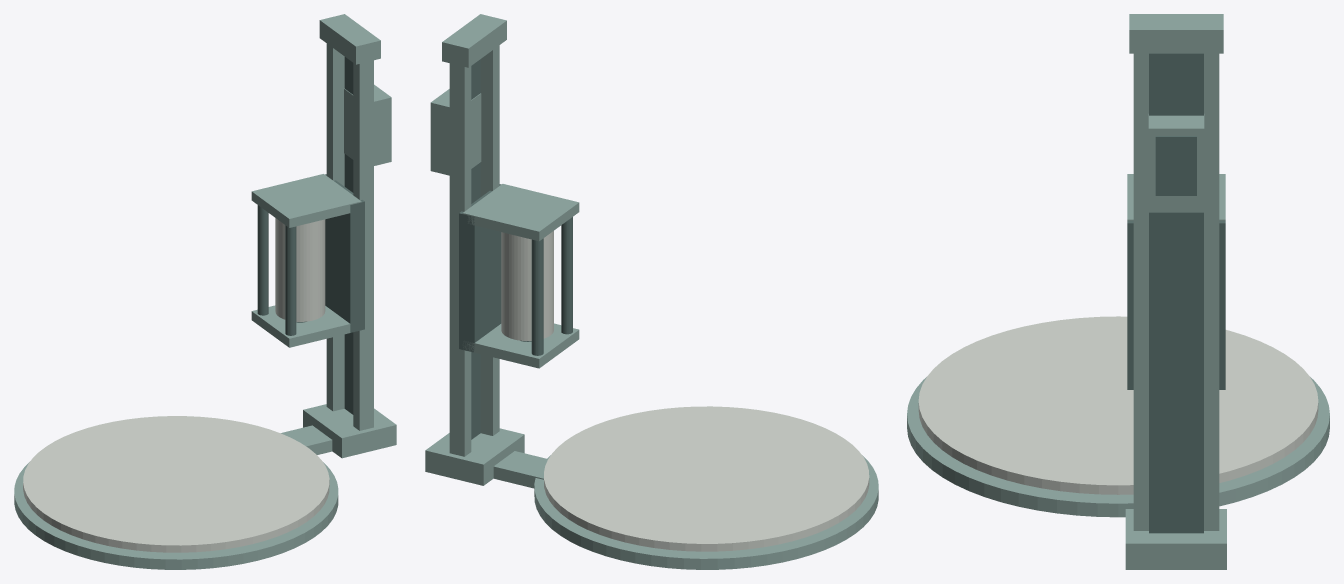
3 renders of one model, left to right at view 1: azimuth 30°, elevation 25°; view 2: azimuth 150°, elevation 25°; view 3: azimuth 270°, elevation 25°, orthographic. The views are drawn at different scales.
Parts seen in each view (by area): view 1: WholeEmptyRoundTurntableDeck, WholeLowCircularPlatformBase, WholeTallMastGuide_0, WholeFixedCarriageBack, WholeOpaqueAnnularFilmRoll, WholeTallMastGuide_1, WholeCarriageArm_Upper, WholeMastGroundPlinth, WholeCarriageArm_Lower, WholeMastUpperCrosshead, WholeMastControlHousing, WholeMastRearCover (+3 smaller); view 2: WholeEmptyRoundTurntableDeck, WholeLowCircularPlatformBase, WholeTallMastGuide_1, WholeFixedCarriageBack, WholeOpaqueAnnularFilmRoll, WholeTallMastGuide_0, WholeCarriageArm_Upper, WholeMastGroundPlinth, WholeCarriageArm_Lower, WholeMastControlHousing, WholeMastUpperCrosshead, WholeMastRearCover (+3 smaller); view 3: WholeEmptyRoundTurntableDeck, WholeMastRearCover, WholeLowCircularPlatformBase, WholeTallMastGuide_0, WholeTallMastGuide_1, WholeMastGroundPlinth, WholeMastUpperCrosshead, WholeMastControlHousing, WholeBlankOpaqueControlPanel, WholeFixedCarriageBack, WholeCarriageArm_Upper.
Boxes of the visible parts, box(x1,y1,x2,y2) form: WholeEmptyRoundTurntableDeck: box(23, 416, 329, 552); WholeLowCircularPlatformBase: box(14, 462, 338, 569); WholeTallMastGuide_0: box(353, 60, 373, 430); WholeFixedCarriageBack: box(325, 174, 364, 332); WholeOpaqueAnnularFilmRoll: box(275, 218, 325, 321); WholeTallMastGuide_1: box(326, 43, 344, 411); WholeCarriageArm_Upper: box(251, 174, 361, 227); WholeMastGroundPlinth: box(303, 404, 396, 458); WholeCarriageArm_Lower: box(251, 305, 350, 347); WholeMastUpperCrosshead: box(319, 14, 380, 64); WholeMastControlHousing: box(344, 84, 391, 165); WholeMastRearCover: box(344, 57, 353, 414); WholeEmptyRoundTurntableDeck: box(544, 406, 869, 551); WholeLowCircularPlatformBase: box(534, 455, 878, 569); WholeTallMastGuide_1: box(449, 63, 471, 456); WholeFixedCarriageBack: box(459, 184, 501, 352); WholeOpaqueAnnularFilmRoll: box(501, 231, 553, 340); WholeTallMastGuide_0: box(480, 45, 499, 435); WholeCarriageArm_Upper: box(462, 184, 579, 241); WholeMastGroundPlinth: box(425, 428, 524, 485); WholeCarriageArm_Lower: box(463, 323, 579, 368); WholeMastControlHousing: box(430, 89, 481, 175); WholeMastUpperCrosshead: box(442, 14, 506, 67); WholeMastRearCover: box(471, 59, 480, 439); WholeEmptyRoundTurntableDeck: box(918, 316, 1318, 494); WholeMastRearCover: box(1149, 53, 1203, 533); WholeLowCircularPlatformBase: box(907, 377, 1329, 517); WholeTallMastGuide_0: box(1133, 53, 1148, 530); WholeTallMastGuide_1: box(1204, 53, 1219, 530); WholeMastGroundPlinth: box(1125, 509, 1226, 569); WholeMastUpperCrosshead: box(1129, 14, 1223, 53); WholeMastControlHousing: box(1148, 114, 1204, 212); WholeBlankOpaqueControlPanel: box(1155, 136, 1196, 195); WholeFixedCarriageBack: box(1127, 221, 1225, 389); WholeCarriageArm_Upper: box(1127, 174, 1225, 220).
Size of the model in its own units: 1.92 by 2.02 by 1.46.
